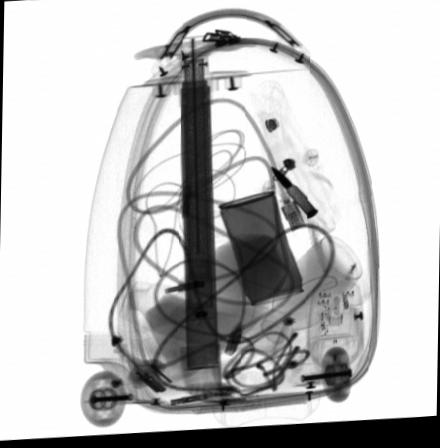Bullet: (270, 168, 319, 223)
